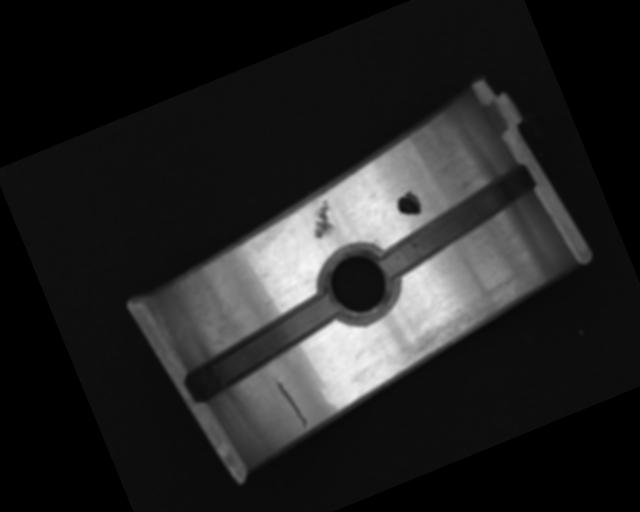blot: (392, 187, 424, 221)
bruise: (303, 198, 341, 240)
gap: (368, 162, 548, 281), (176, 290, 351, 405)
hole: (309, 235, 408, 334)
nick: (271, 369, 310, 435)
scratch: (379, 269, 544, 374)
